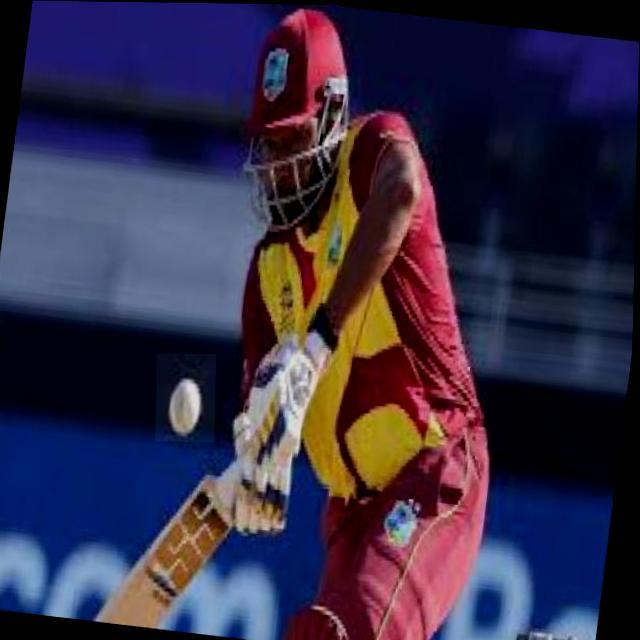-: (157, 353, 218, 442)
